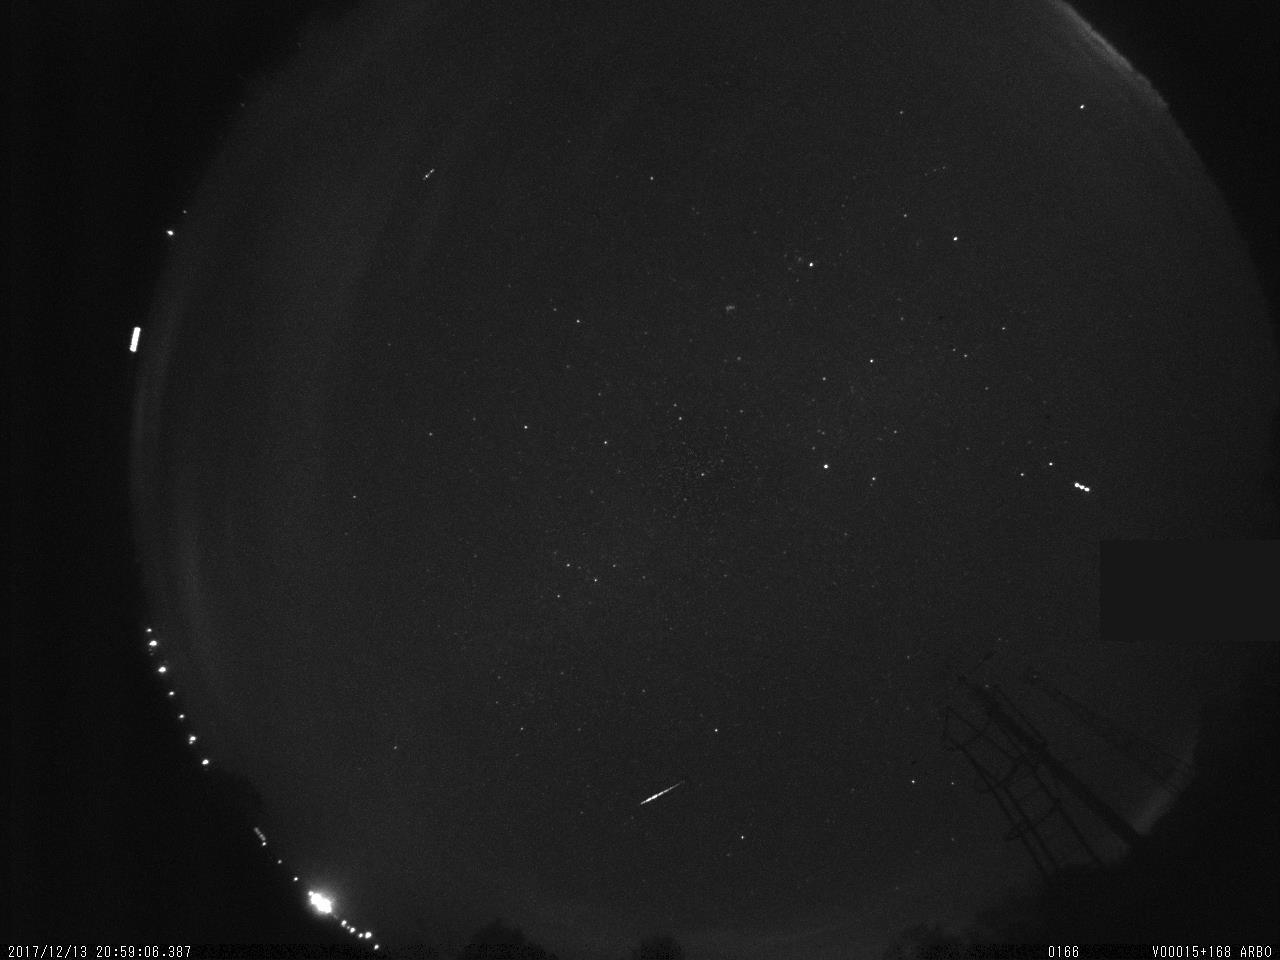meteor: (620, 762, 705, 817)
